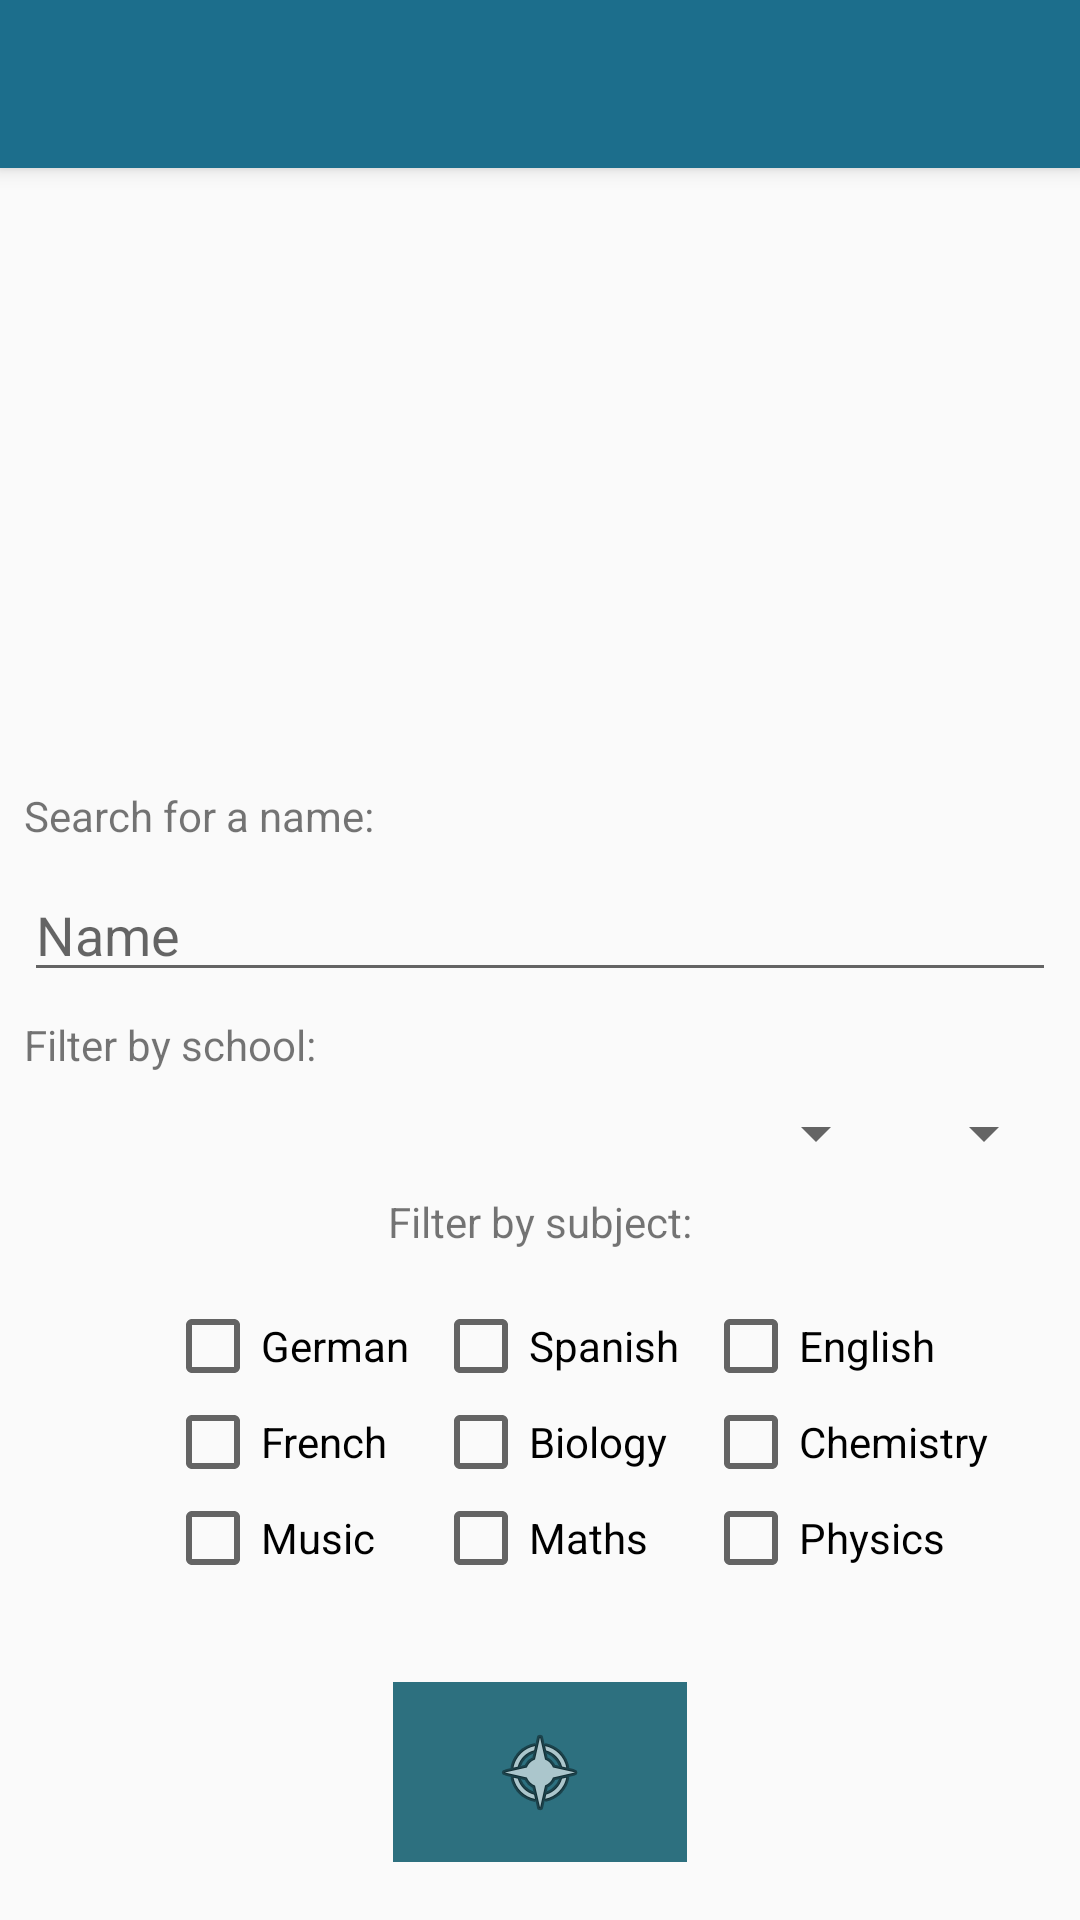

Where icons sit on this 1080w x 1920h app screen, as (x1, y1, x2, y2):
compass: (393, 1682, 687, 1862)
